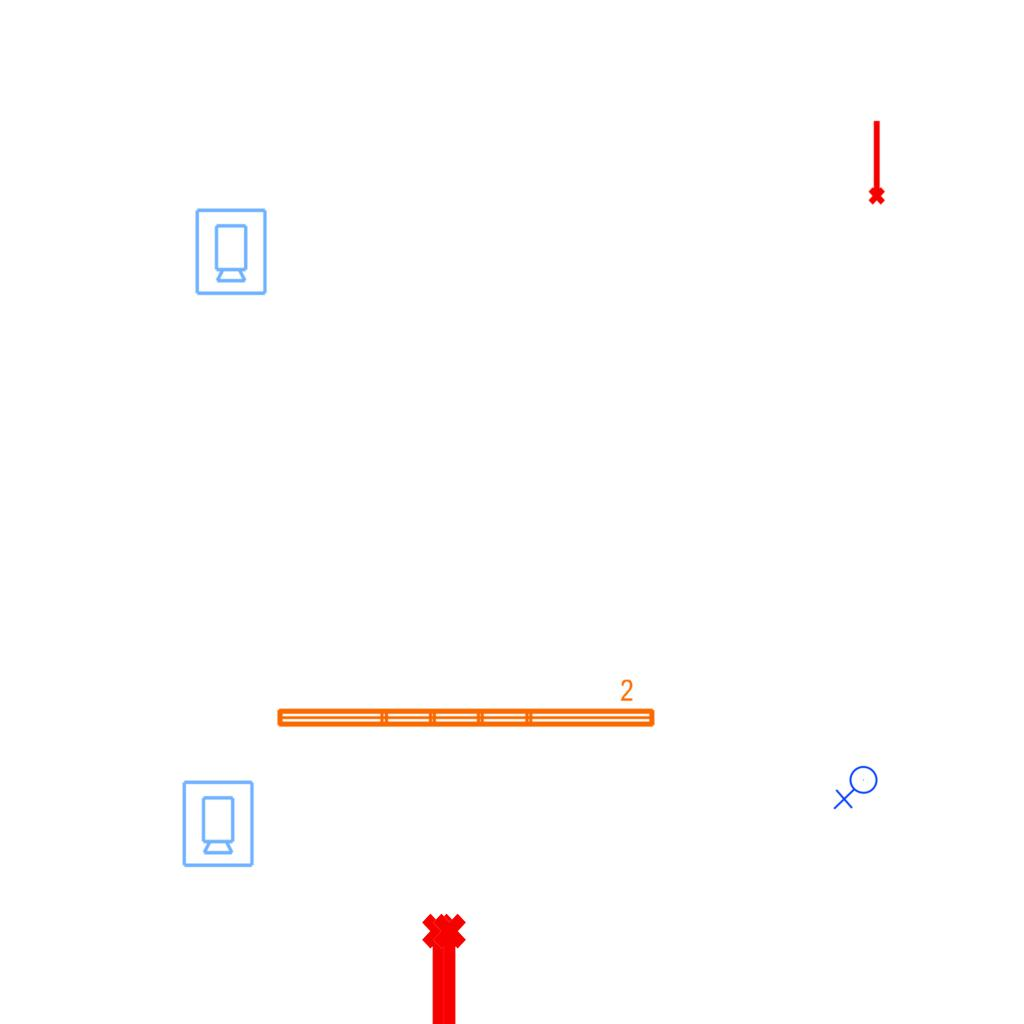ASR_Ansaugoeffnung: (418, 911, 464, 1024), (429, 911, 475, 1024), (864, 118, 887, 206)
Ambulanz_Pendelleuchte_LED: (272, 677, 659, 733)
Elektroanschluss_allgemein_230V_Geraeteanschlussdose_230V: (833, 765, 882, 812)
KFO_Kamera_mit_Festobjektiv: (192, 206, 269, 297), (179, 778, 256, 869)
